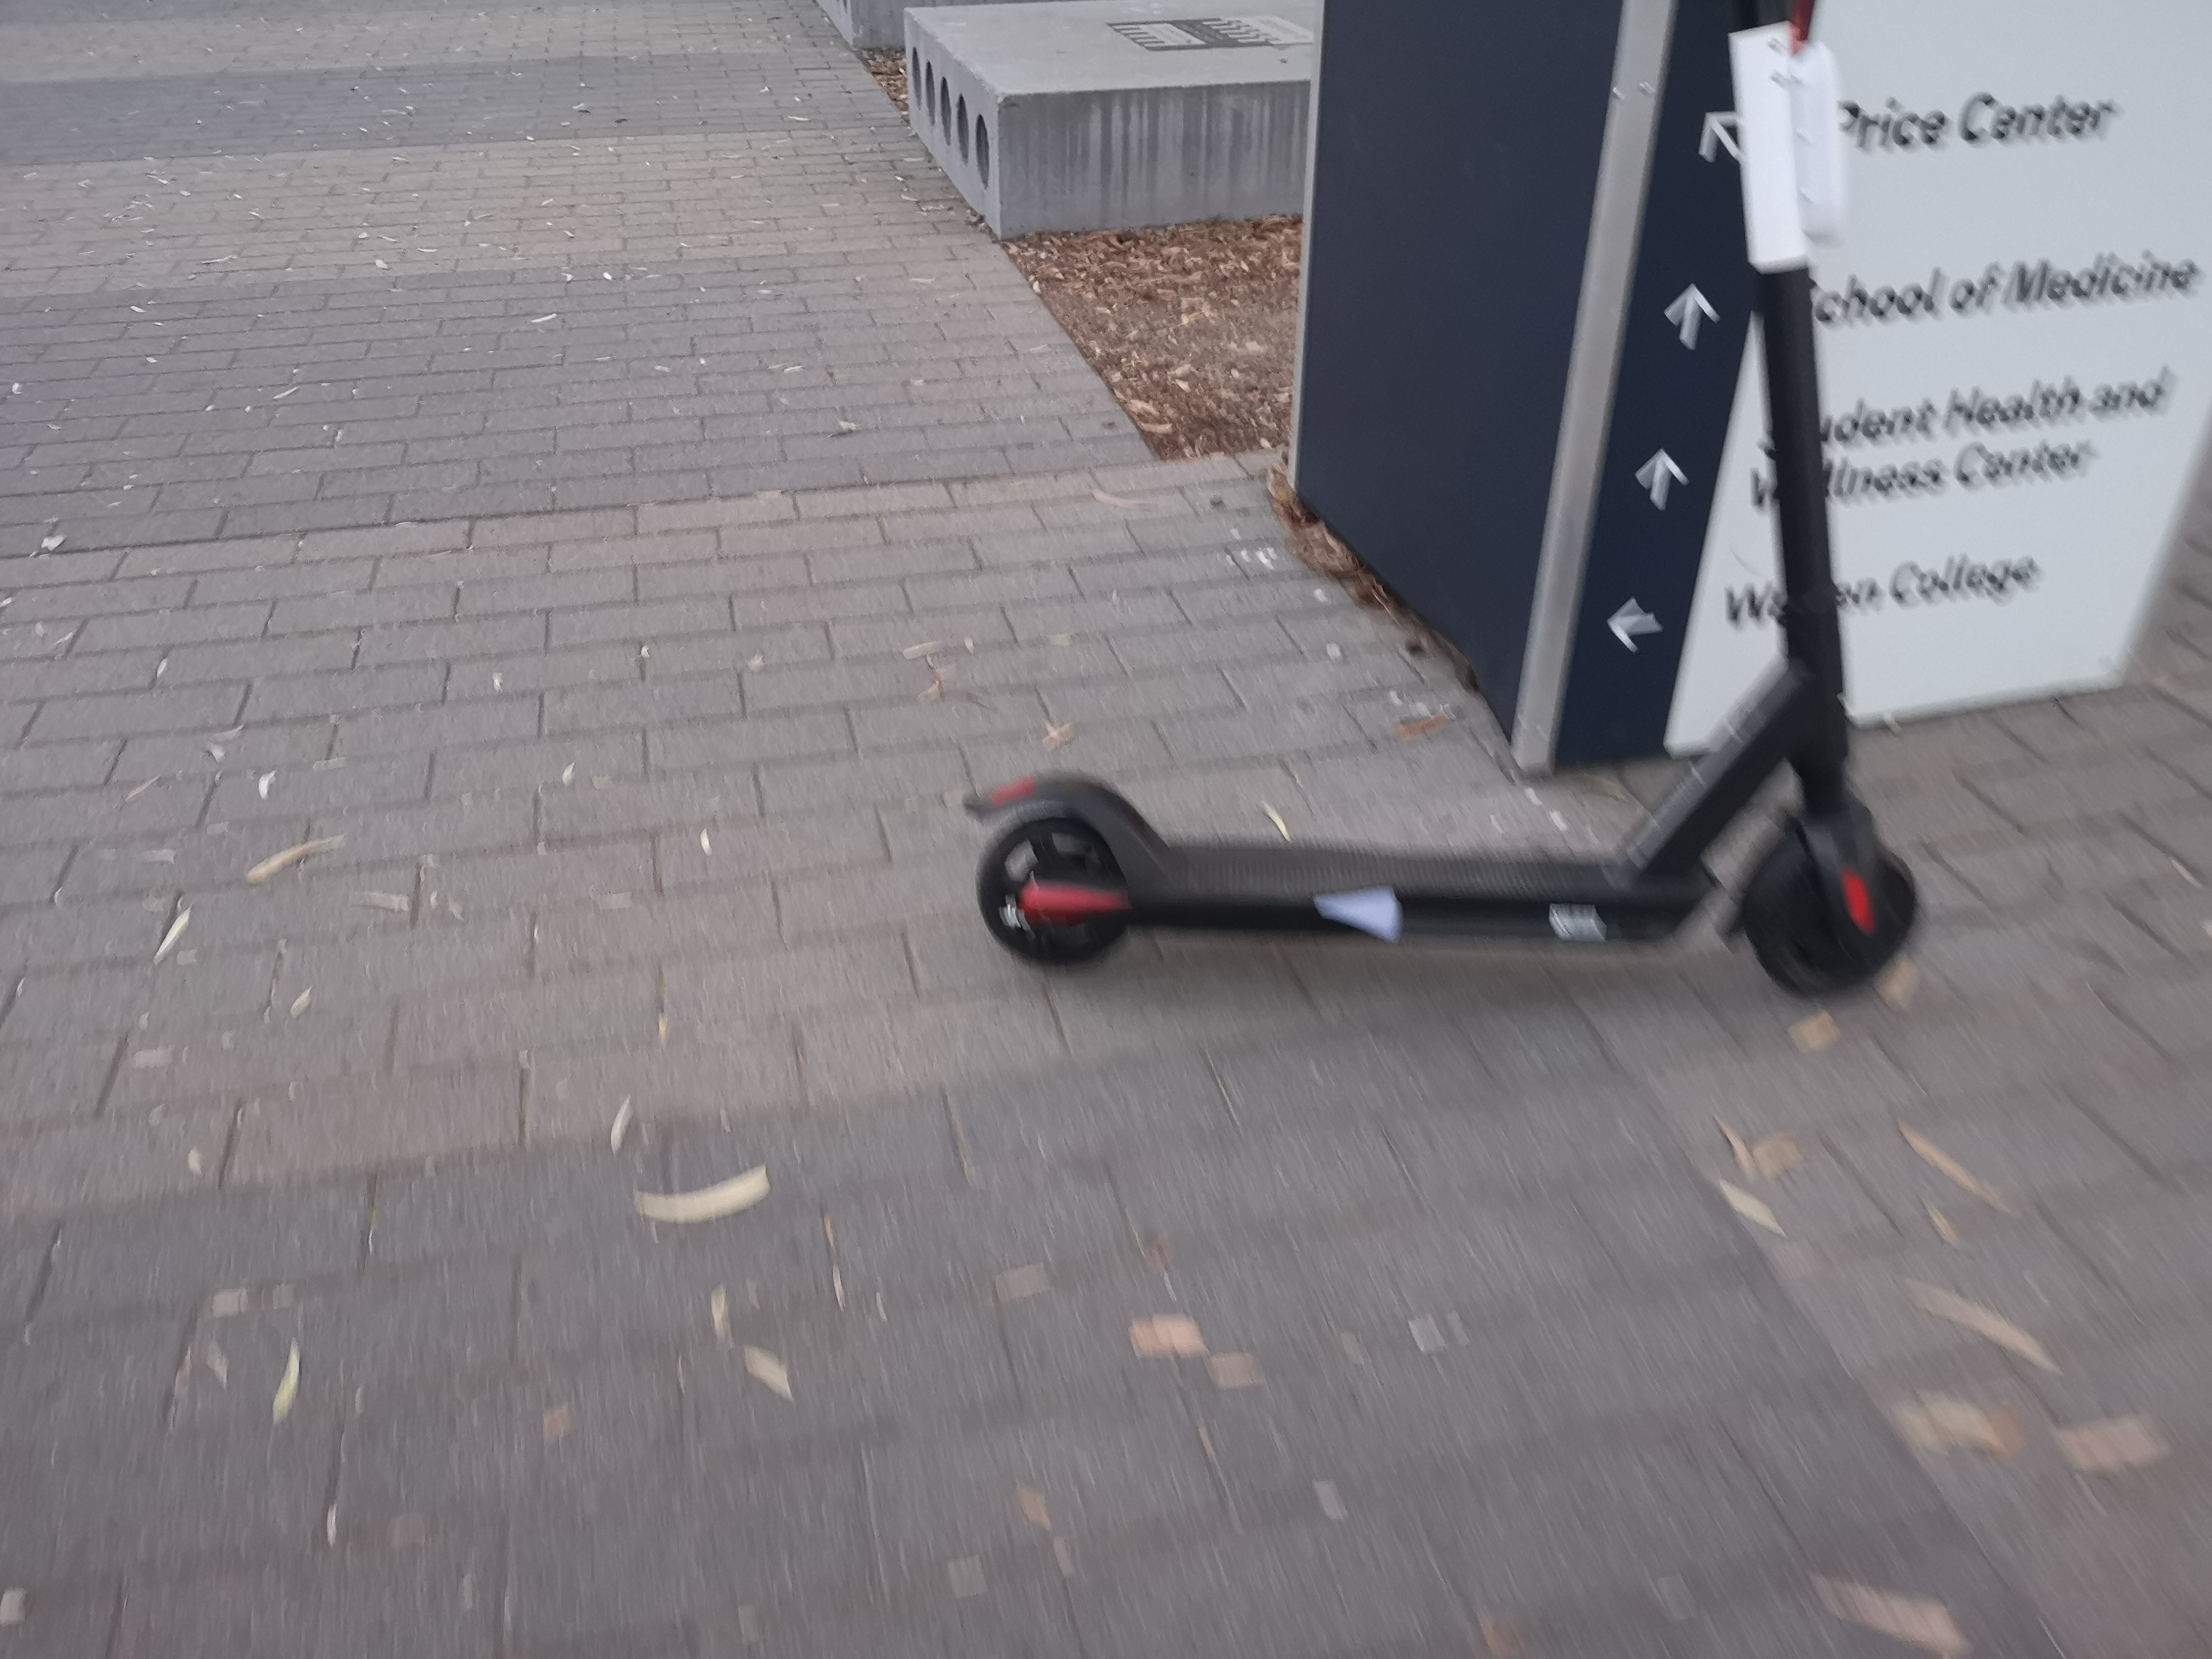Edge: (998, 240, 1160, 471), (1132, 410, 1280, 488)
Obstacle: (1271, 26, 2158, 1009), (927, 699, 2020, 1030), (817, 19, 1371, 314)
